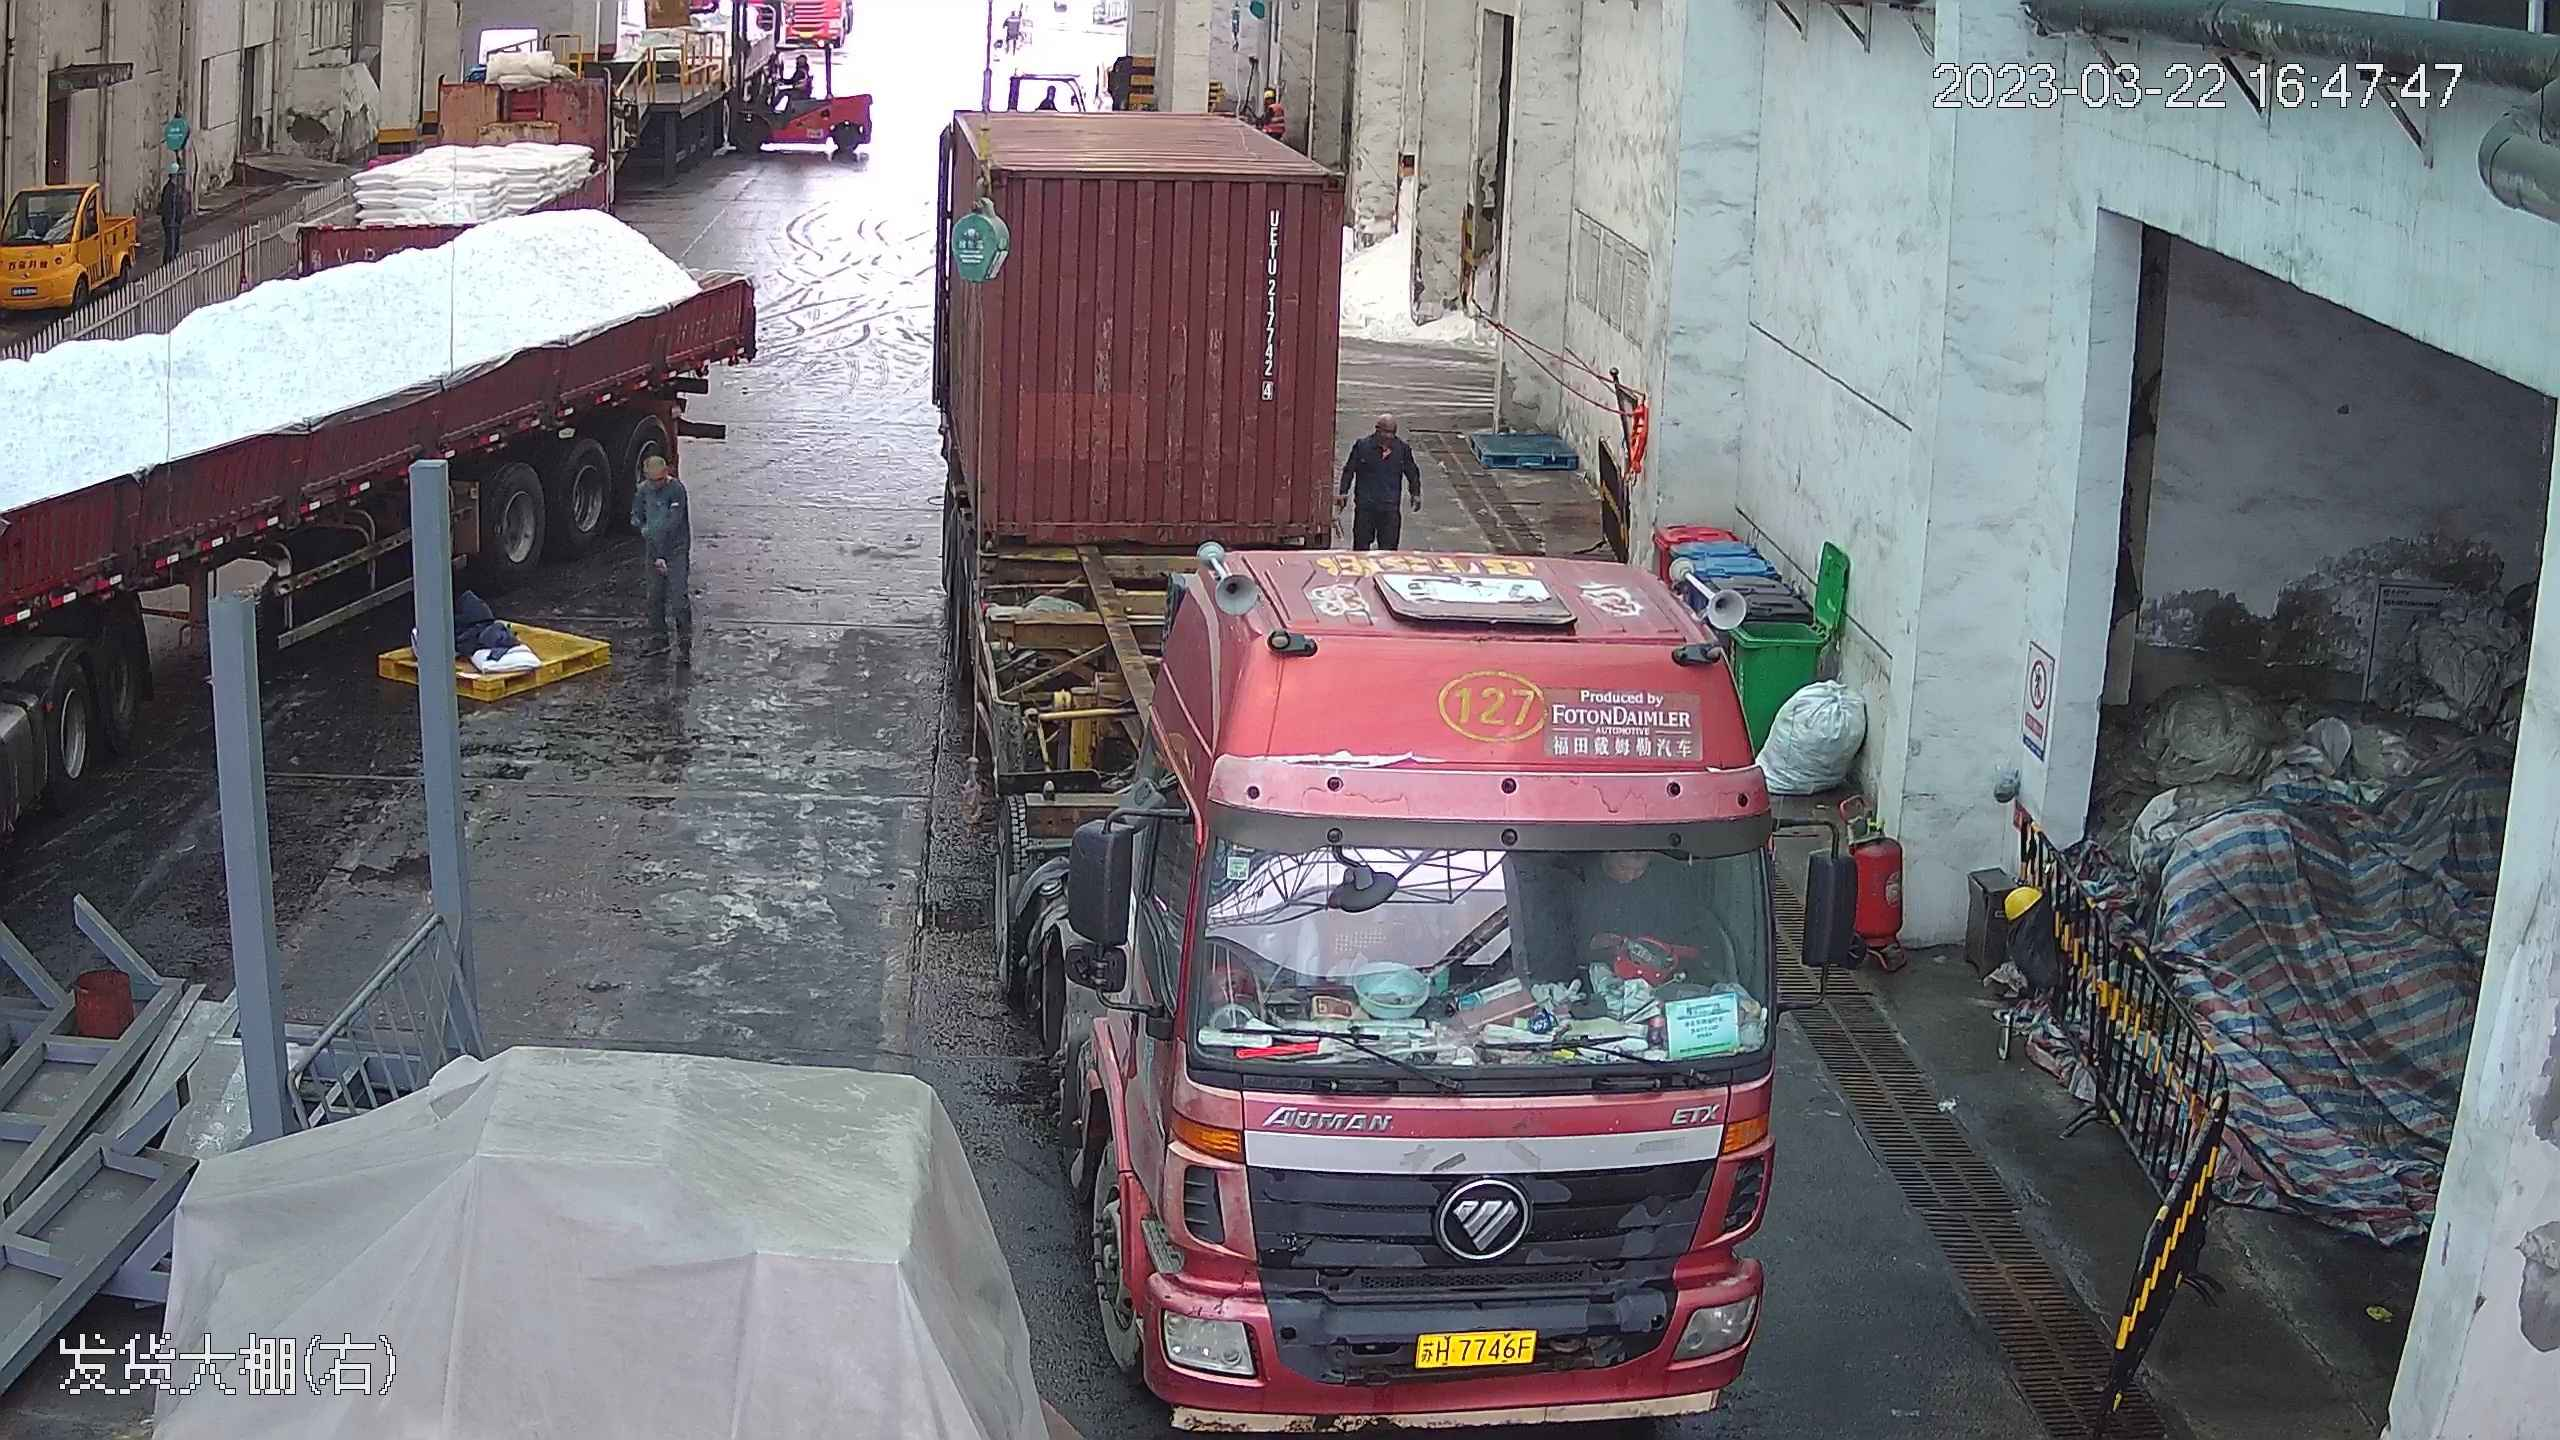head: (632, 455, 691, 525), (1354, 405, 1412, 462), (160, 156, 190, 214), (1258, 86, 1286, 124), (790, 54, 810, 85)
helmet: (165, 161, 184, 176), (1260, 89, 1275, 100), (796, 54, 807, 65)
people: (628, 452, 699, 665), (1337, 402, 1424, 569), (155, 149, 191, 257), (766, 49, 813, 109)
truck: (927, 52, 1813, 1432)
